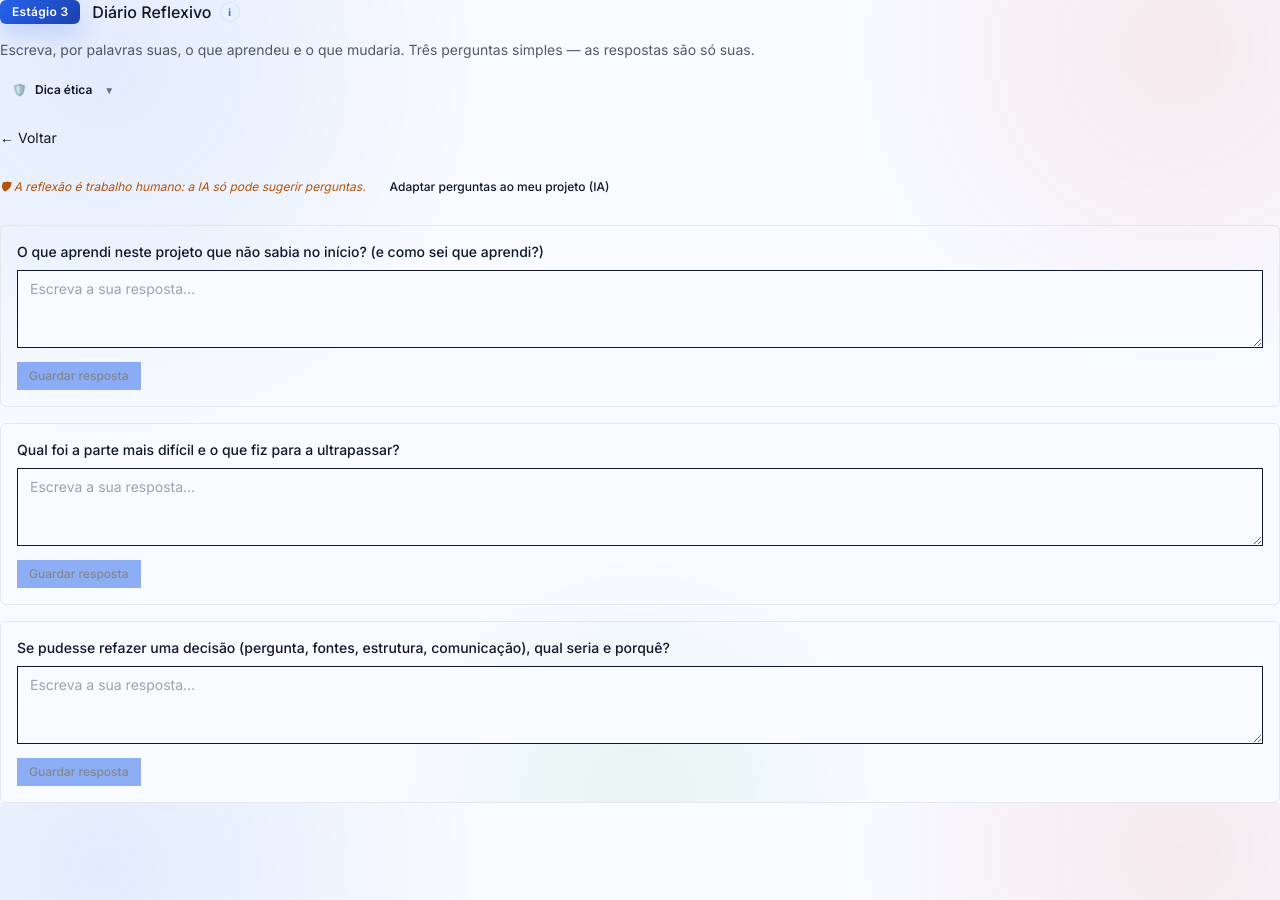
Reflective journal › swaps in tailored questions and survives AI failure
Click the button "Adaptar perguntas ao meu projeto (IA)": (500, 187) [378, 173, 621, 201]
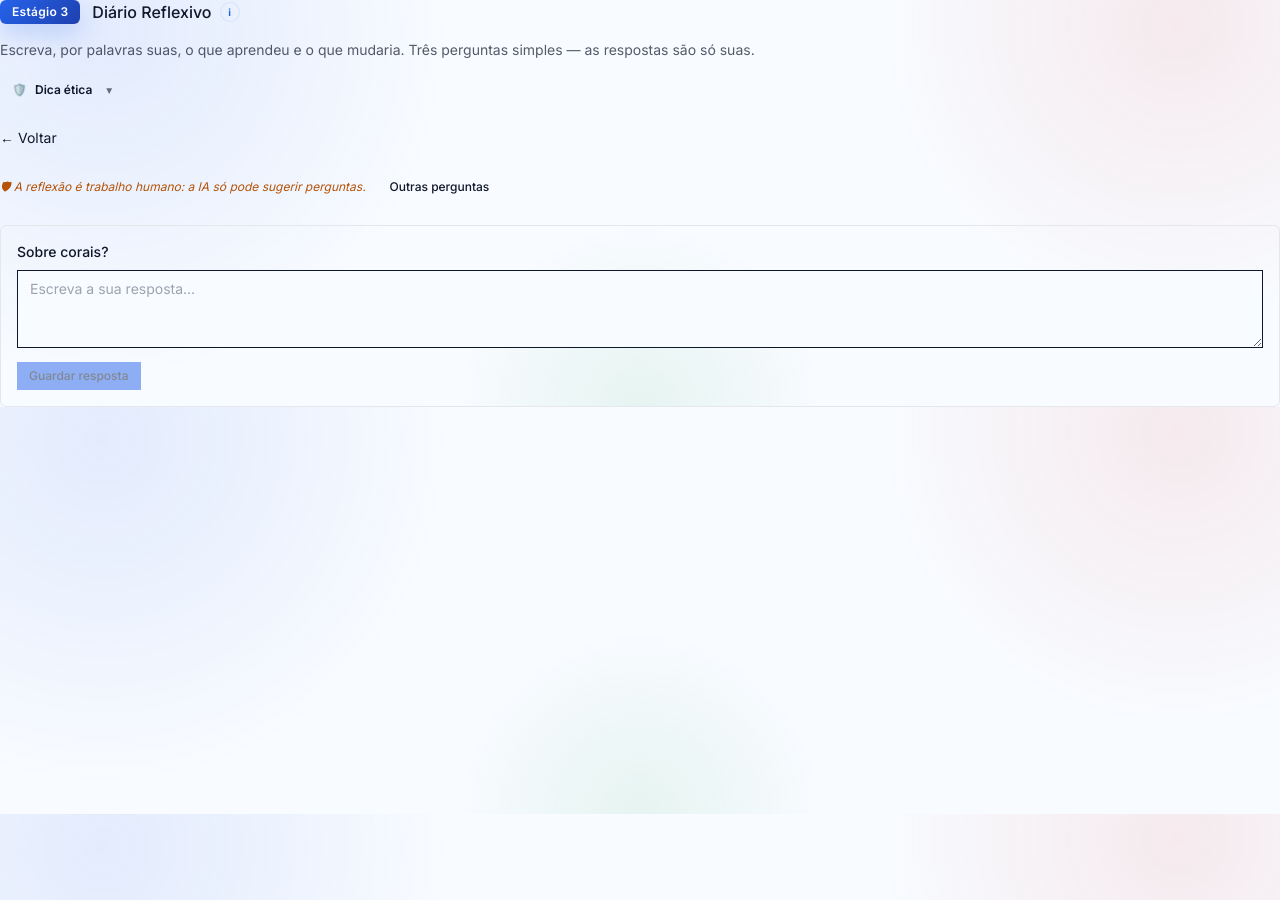
expect the text "Sobre corais?" is shown: met, box [17, 243, 108, 260]
